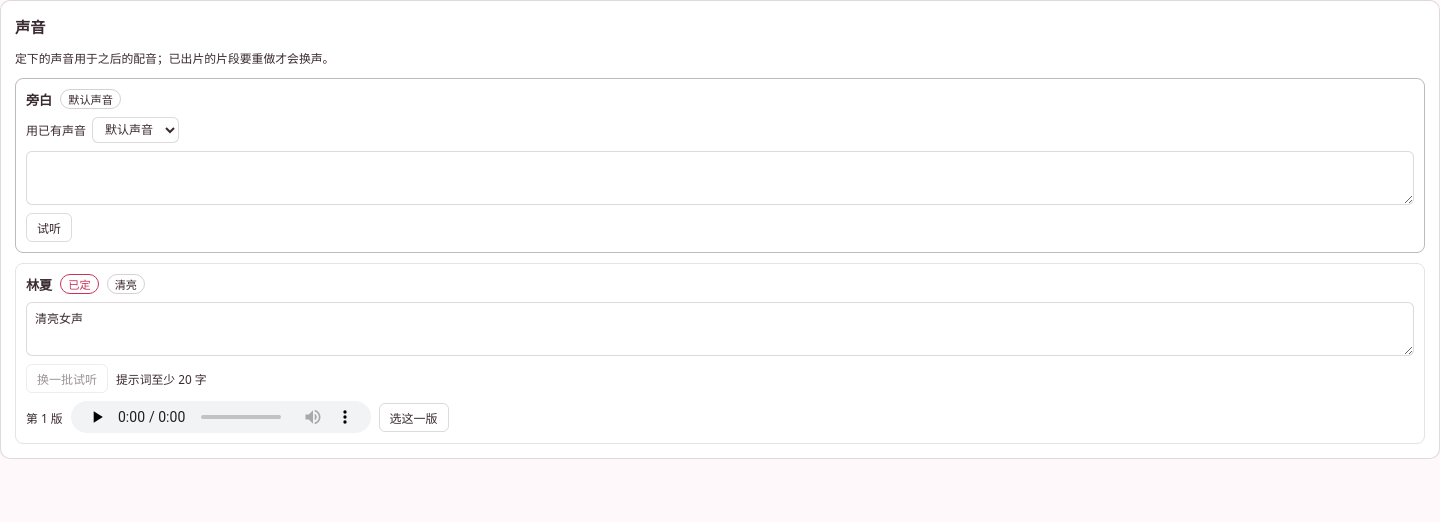
it: changing a cast voice › reports a redub done on the spot
Click the button "选这一版".
click(414, 417)  # box [379,402,449,432]
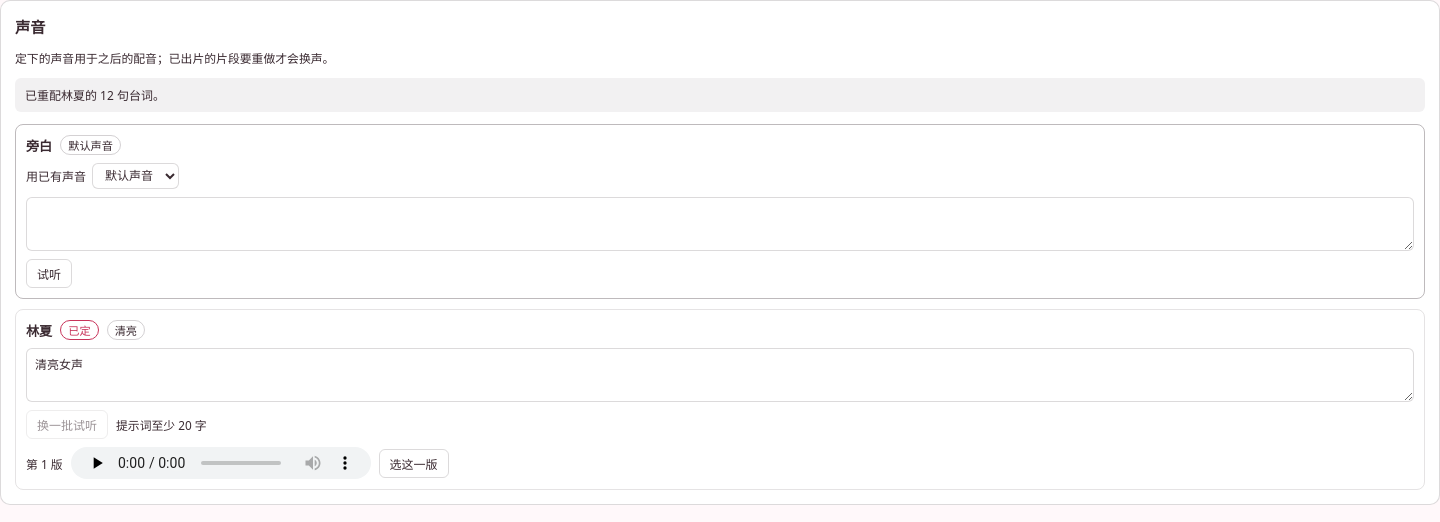
Result: the text "已重配林夏的 12 句台词。" is shown at [15,78,1425,112]
